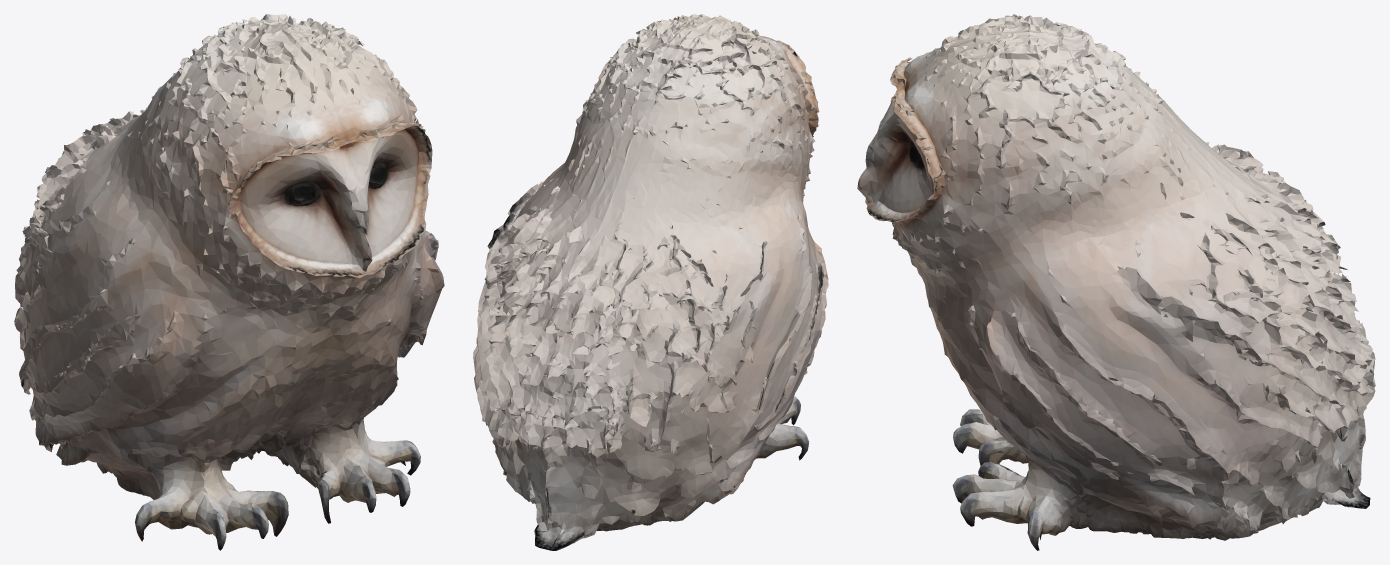
File: run117_trellis_blender_roundtrip_unapproved.glb
3 renders of one model, left to right at view 1: azimuth 30°, elevation 25°; view 2: azimuth 150°, elevation 25°; view 3: azimuth 270°, elevation 25°, orthographic. The views are drawn at different scales.
Visible parts, largest first — view 1: world; view 2: world; view 3: world.
Part boxes in pixels (x1,y1,x2,y2): world: (14,14,444,550); world: (473,14,828,550); world: (857,14,1375,550).
Size of the model in its own units: 0.7056 by 0.9751 by 0.9612.
Materials: 1 (1 with a texture image).
